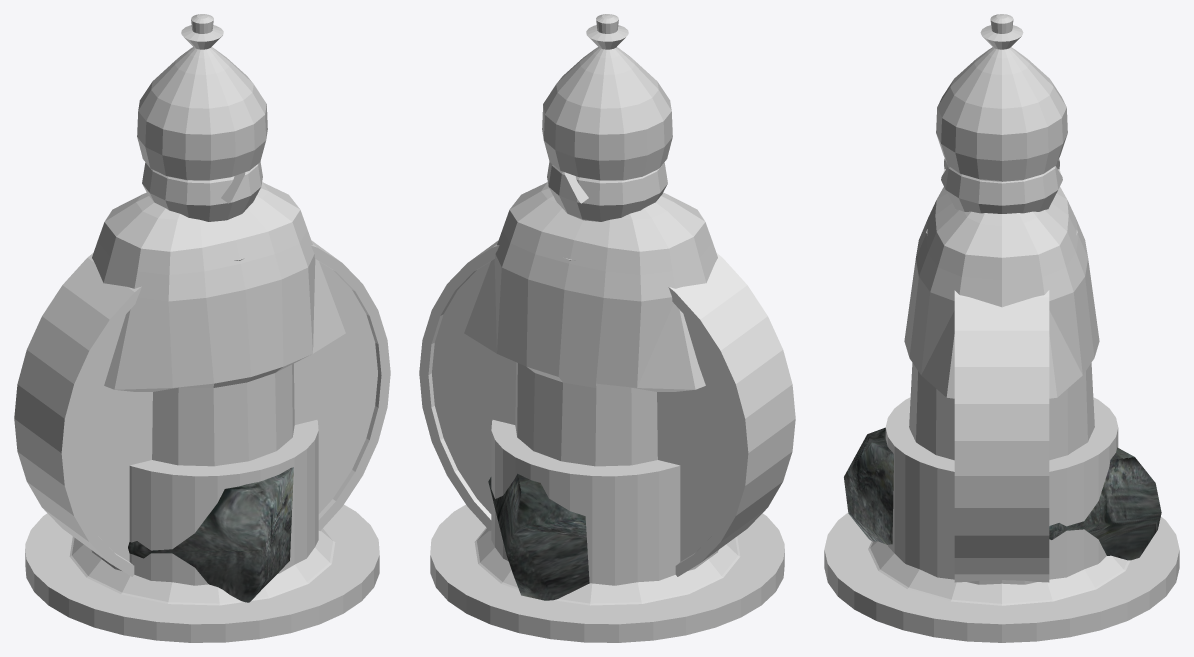
Rendered from pieces.glb.
3 renders of one model, left to right at view 1: azimuth 30°, elevation 25°; view 2: azimuth 150°, elevation 25°; view 3: azimuth 270°, elevation 25°, orthographic.
Parts seen in each view (by area): view 1: sorcerer, wheel, hat, rock, bishop; view 2: sorcerer, wheel, hat, rock, bishop; view 3: sorcerer, hat, wheel, rock, bishop.
Part boxes in pixels (x1,y1,x2,y2): sorcerer: (69,14,345,605); wheel: (14,240,390,576); hat: (25,420,379,642); rock: (128,467,293,602); bishop: (142,162,262,260); sorcerer: (464,14,740,605); wheel: (419,240,795,576); hat: (430,420,784,642); rock: (488,473,589,600); bishop: (547,162,667,260); sorcerer: (868,14,1130,605); hat: (824,397,1179,642); wheel: (954,290,1049,582); rock: (844,427,1161,560); bishop: (926,158,1077,234).
Size of the model in its own units: 2 by 3.21 by 1.87.
Materials: 2 (1 with a texture image).
